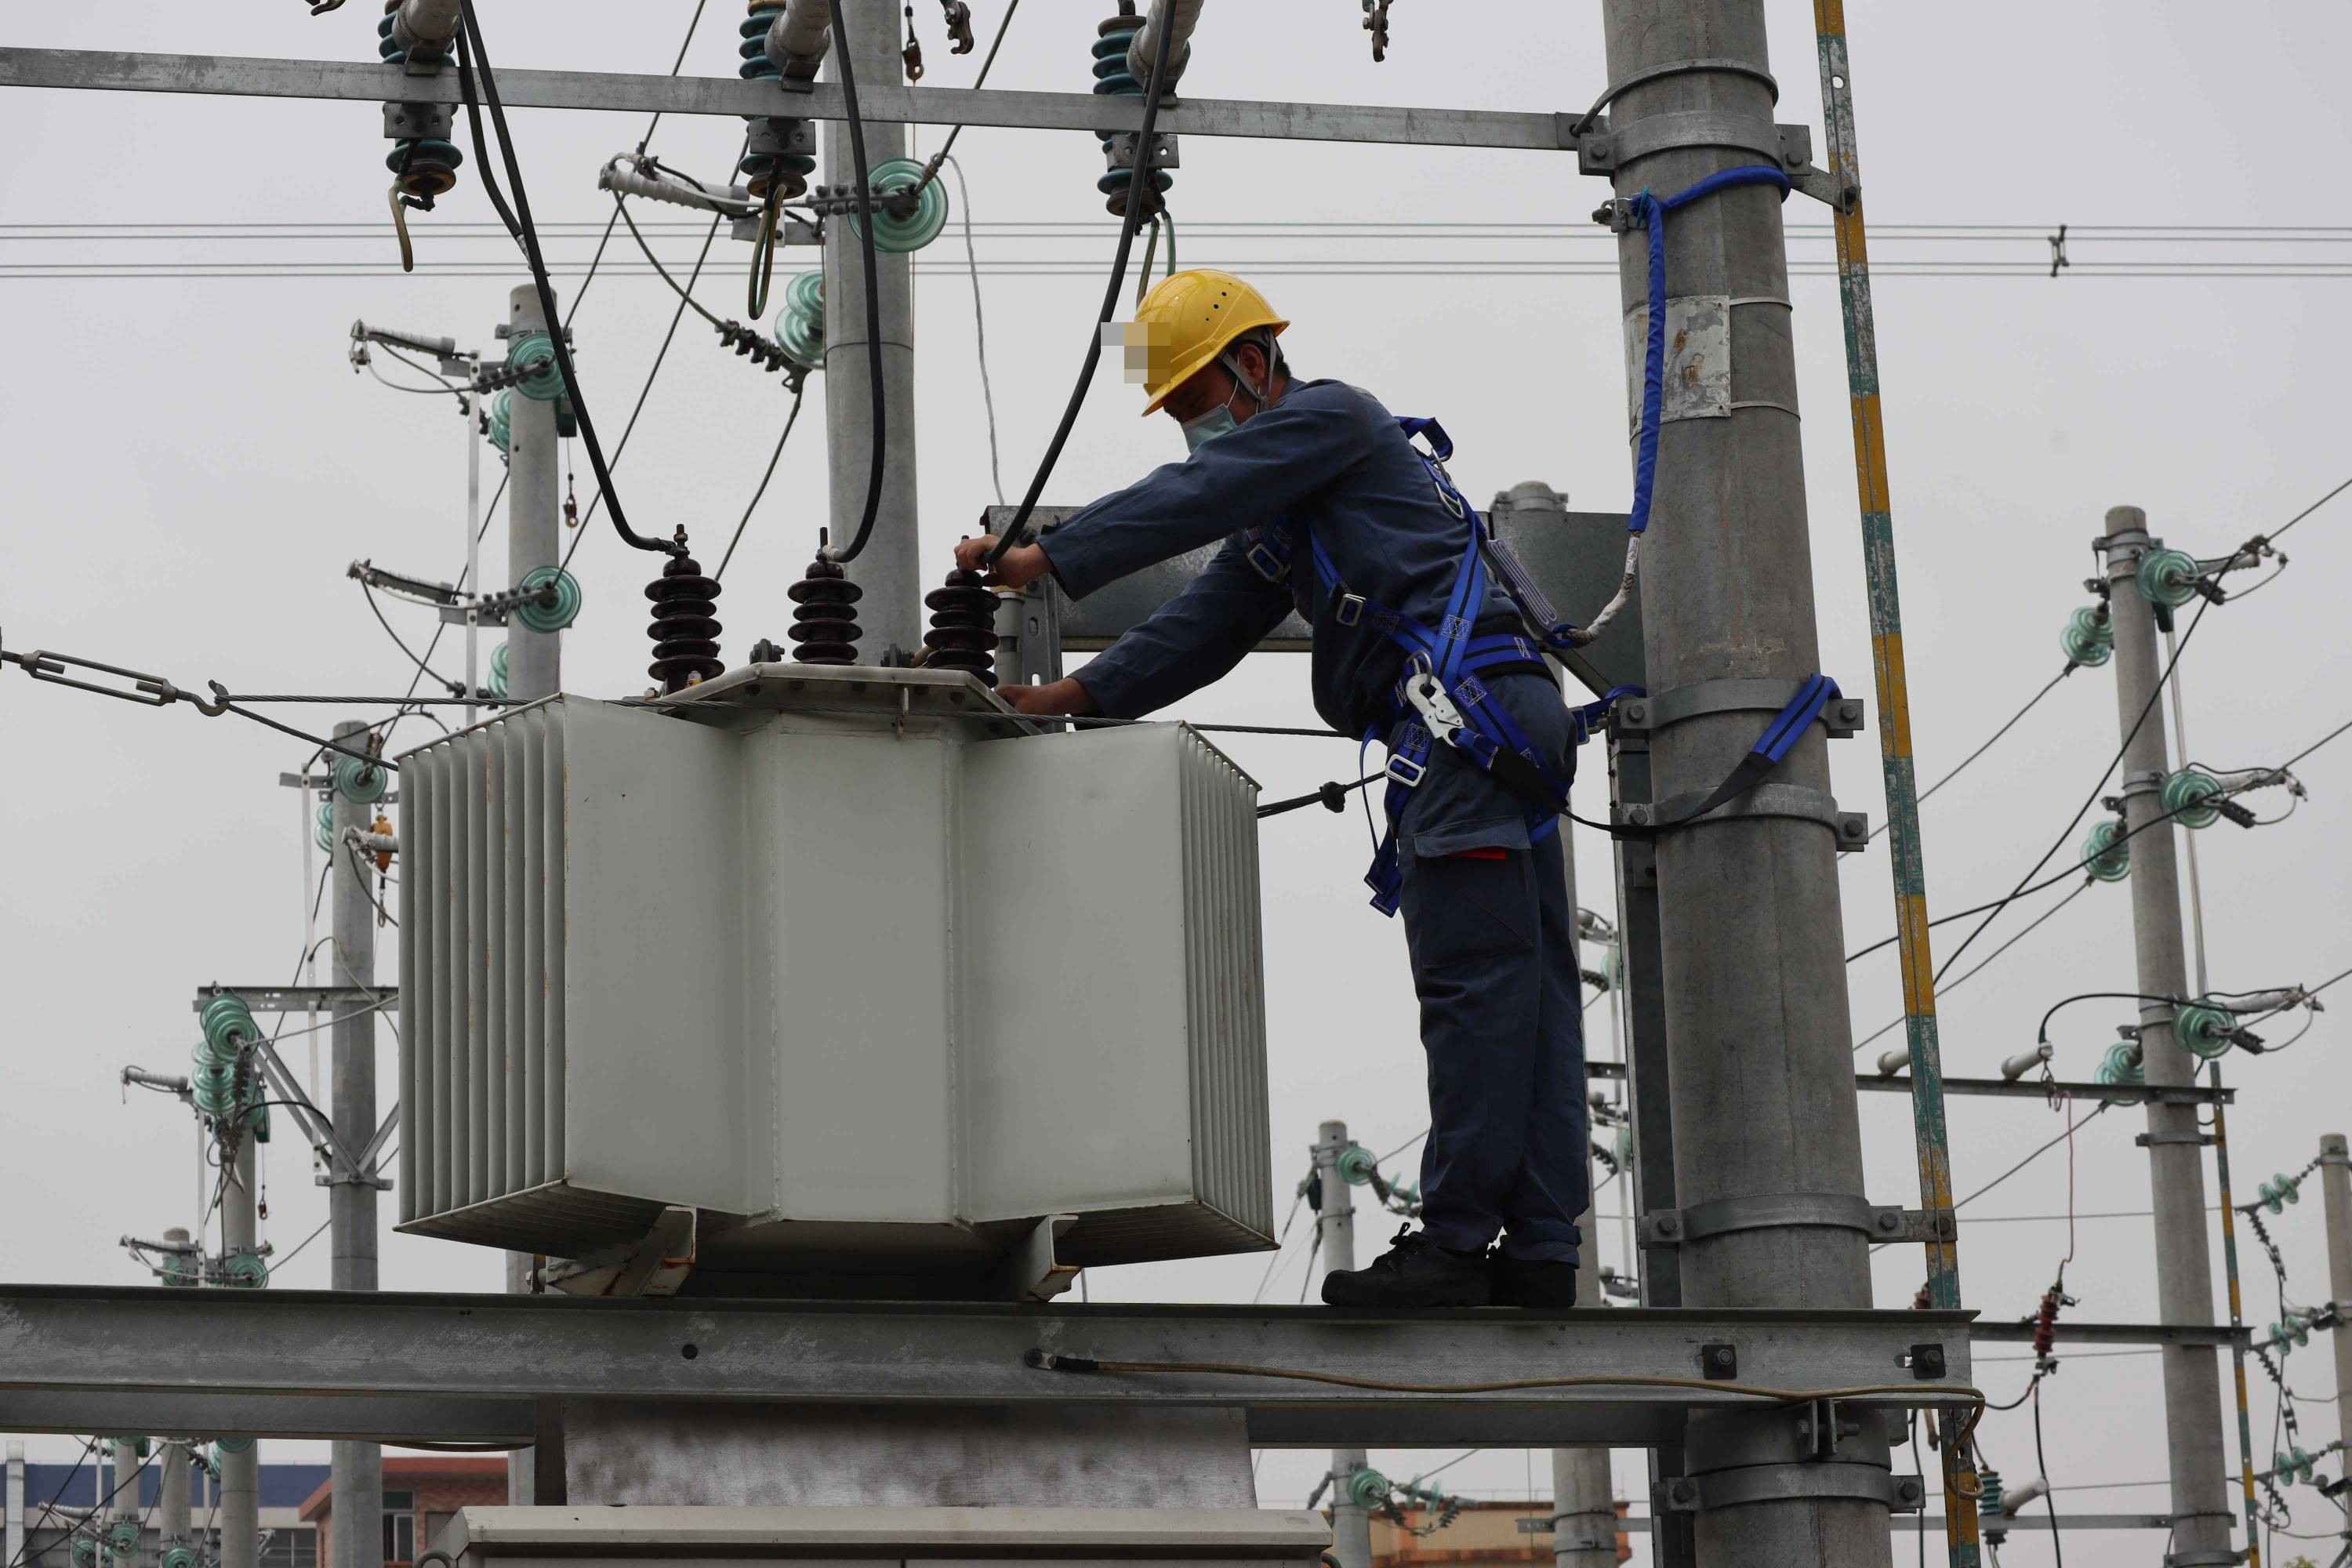downsuit: (1382, 730, 1601, 1260)
upsuit: (1029, 385, 1552, 724)
